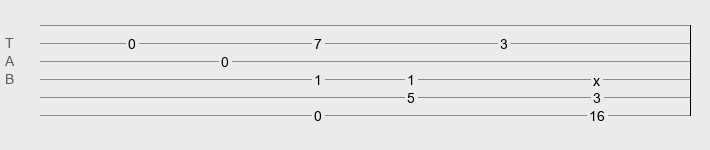0: (128, 36, 136, 46), (221, 54, 229, 64), (314, 108, 322, 118)
1: (314, 72, 322, 82), (407, 72, 415, 82)
16: (589, 108, 605, 118)
3: (500, 36, 508, 46), (593, 90, 601, 100)
5: (407, 90, 415, 100)
7: (314, 36, 322, 46)
x: (593, 73, 600, 81)
